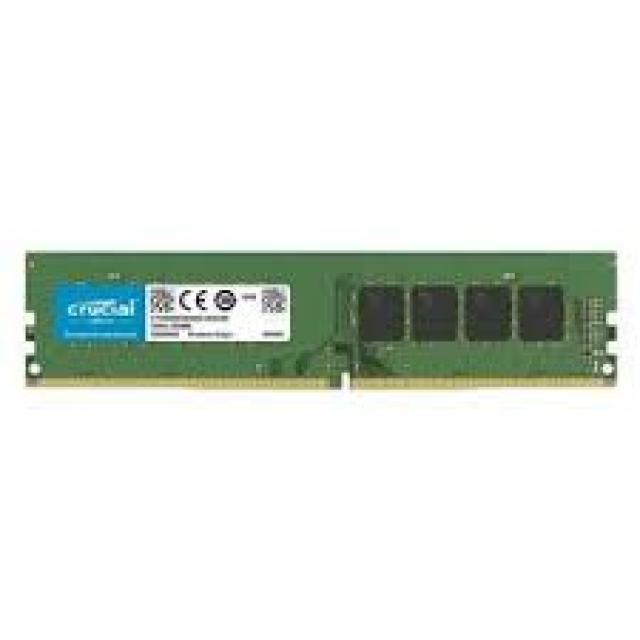Ram: (29, 90, 615, 484)
